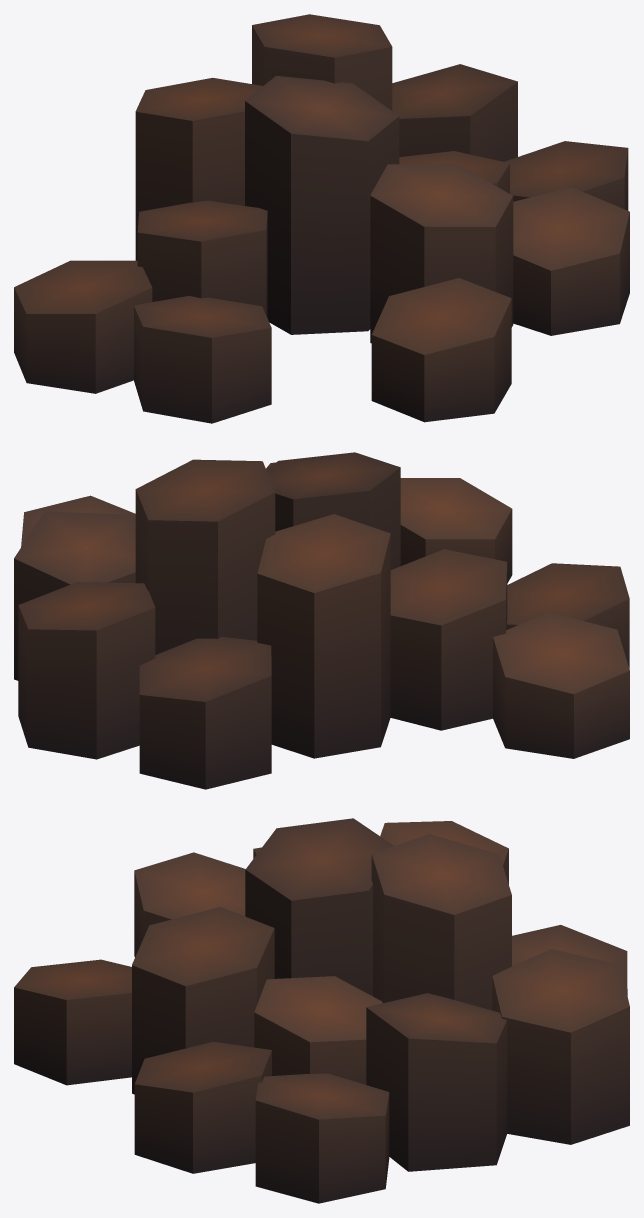
The model's file is columnar.lod1.glb.
3 views of the same model, one above another, from view 1: azimuth 30°, elevation 25°; view 2: azimuth 150°, elevation 25°; view 3: azimuth 270°, elevation 25° (orthographic).
Visible parts, largest first — view 1: columnar_s1_lod1; view 2: columnar_s1_lod1; view 3: columnar_s1_lod1.
Boxes of the visible parts, x1=… form: columnar_s1_lod1: x1=14, y1=14, x2=629, y2=423; columnar_s1_lod1: x1=14, y1=452, x2=629, y2=789; columnar_s1_lod1: x1=14, y1=818, x2=629, y2=1203.
Size of the model in its own units: 2.68 by 0.9292 by 2.36.
